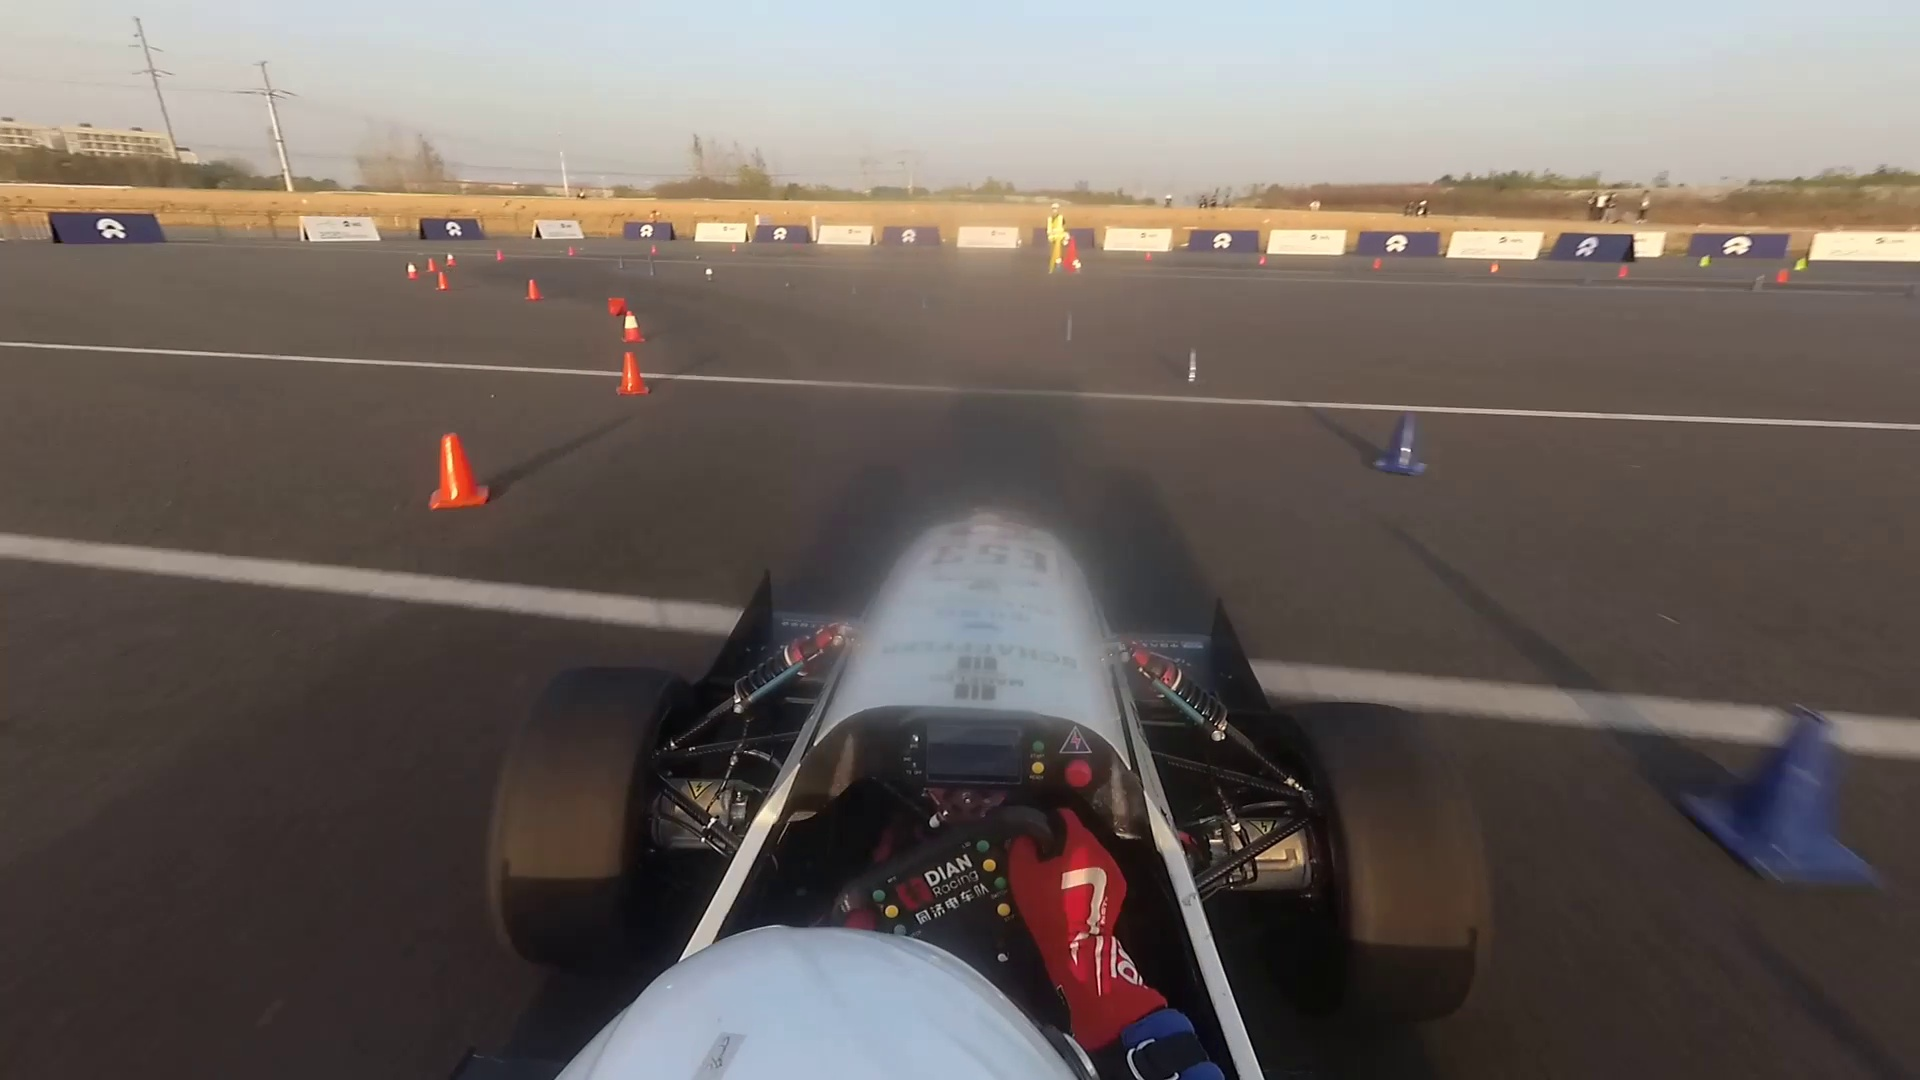blue_cone: (1704, 692, 1869, 890), (1356, 401, 1447, 483), (1174, 340, 1211, 392), (1056, 309, 1083, 344), (698, 262, 717, 284), (1746, 272, 1766, 293), (617, 252, 632, 276), (785, 269, 796, 295), (646, 258, 658, 278)
red_cone: (421, 429, 497, 522), (607, 353, 647, 398), (615, 313, 642, 338), (604, 295, 630, 319), (1614, 258, 1636, 281), (524, 278, 545, 301), (492, 247, 509, 268), (1775, 264, 1791, 286), (1369, 252, 1385, 273), (1487, 257, 1505, 276), (435, 269, 448, 290), (423, 255, 436, 274), (446, 251, 456, 274), (1145, 247, 1158, 265), (646, 240, 661, 255), (563, 243, 578, 256), (1257, 252, 1270, 265), (407, 260, 415, 276)
